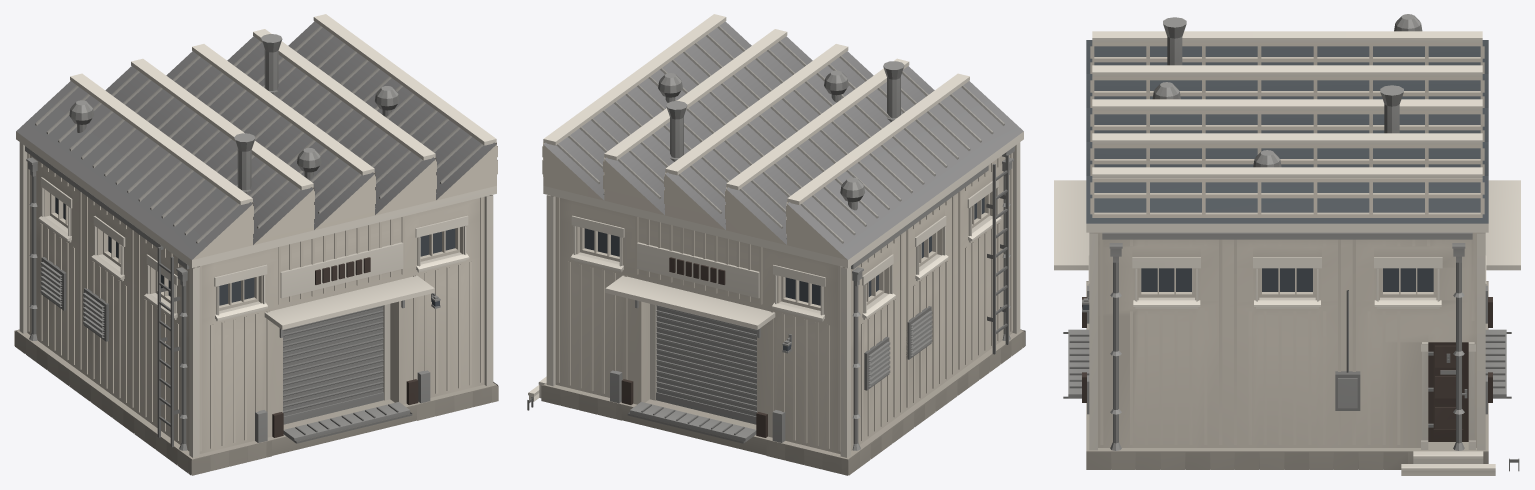
The model's file is building-warehouse-sawtooth-near.glb.
The picture shows the model from 3 angles, left to right: view 1: azimuth 30°, elevation 25°; view 2: azimuth 150°, elevation 25°; view 3: azimuth 270°, elevation 25°; orthographic projection. The views are drawn at different scales.
Visible parts, largest first — view 1: BuildingNear; view 2: BuildingNear; view 3: BuildingNear.
Part boxes in pixels (left/top/right/bottom): BuildingNear: left=14, top=14, right=498, bottom=475; BuildingNear: left=527, top=14, right=1025, bottom=475; BuildingNear: left=1054, top=14, right=1520, bottom=475.
Bounding box in the file's own units: 1.05 × 0.9 × 1.16.
